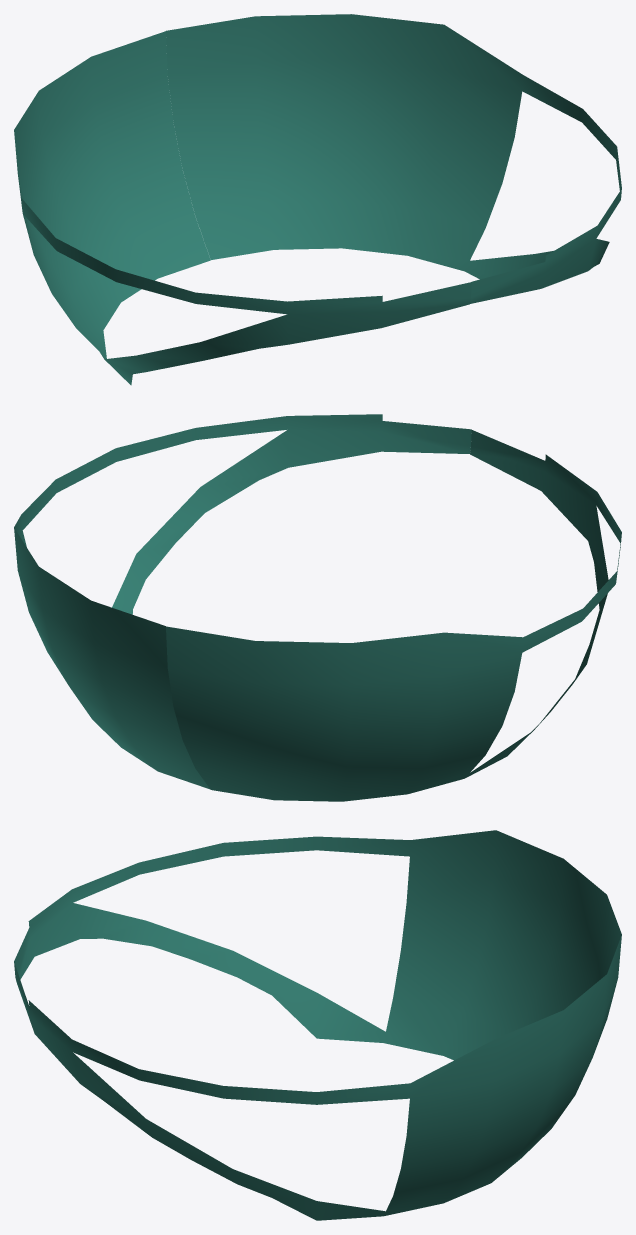
The model's file is facial_mask.obj.
3 renders of one model, top to bottom at view 1: azimuth 30°, elevation 25°; view 2: azimuth 150°, elevation 25°; view 3: azimuth 270°, elevation 25°, orthographic.
Visible parts, largest first — view 1: pSphere14; view 2: pSphere14; view 3: pSphere14.
Part boxes in pixels (bbox=[...]): pSphere14: bbox=[14, 14, 621, 385]; pSphere14: bbox=[14, 414, 621, 801]; pSphere14: bbox=[14, 830, 621, 1220].
Size of the model in its own units: 2.03 by 0.7253 by 2.04.
